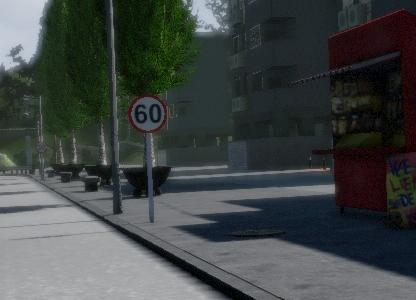Speed_60: (193, 81, 238, 128)
